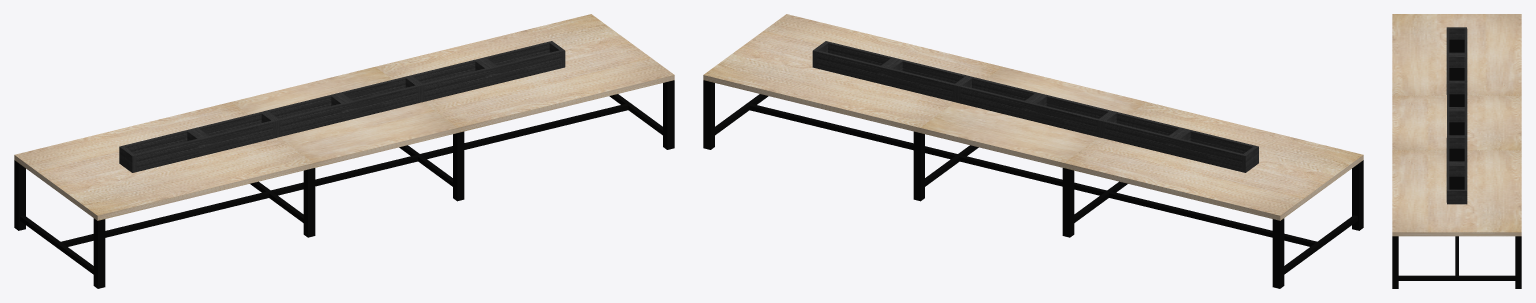
File: Office-Table.glb
3 views of the same model, side by side, from view 1: azimuth 30°, elevation 25°; view 2: azimuth 150°, elevation 25°; view 3: azimuth 270°, elevation 25° (orthographic). The views are drawn at different scales.
Visible parts, largest first — view 1: table (×2), table 1, Box 8 (×3), Box 11 (×3), Box 10 (×2), Box 7 (×2), Box 5 (×2), Box 15, Box 4 (×2), Box 1, Box 3, Box 6; view 2: table (×2), table 1, Box 11 (×3), Box 8 (×3), Box 10 (×2), Box 1 (×2), Box 5 (×2), Box 15, Box 4 (×2), Box 7, Box 6, Box 3; view 3: table (×2), table 1, Box (×3), Box 14 (×3), Box 5, Box 11 (×3), Box 8 (×3), Box 13 (×2), Box 12 (×2), Box 1, Box 7, Box 10.
Boxes of the visible parts, bbox=[...] form: table (×2): bbox=[14, 14, 674, 220]; table 1: bbox=[231, 67, 458, 167]; Box 8 (×3): bbox=[123, 50, 561, 153]; Box 11 (×3): bbox=[135, 42, 549, 171]; Box 10 (×2): bbox=[59, 103, 629, 246]; Box 7 (×2): bbox=[14, 80, 674, 230]; Box 5 (×2): bbox=[20, 94, 662, 274]; Box 15: bbox=[267, 154, 423, 195]; Box 4 (×2): bbox=[250, 145, 452, 222]; Box 1: bbox=[93, 218, 105, 288]; Box 3: bbox=[303, 168, 315, 237]; Box 6: bbox=[453, 131, 464, 201]; table (×2): bbox=[703, 14, 1363, 220]; table 1: bbox=[919, 67, 1146, 167]; Box 11 (×3): bbox=[816, 50, 1254, 153]; Box 8 (×3): bbox=[828, 42, 1242, 171]; Box 10 (×2): bbox=[748, 103, 1318, 246]; Box 1 (×2): bbox=[703, 80, 1363, 230]; Box 5 (×2): bbox=[715, 94, 1357, 274]; Box 15: bbox=[958, 155, 1109, 195]; Box 4 (×2): bbox=[925, 145, 1127, 222]; Box 7: bbox=[1272, 218, 1284, 288]; Box 6: bbox=[1062, 168, 1074, 237]; Box 3: bbox=[913, 131, 924, 201]; table (×2): bbox=[1392, 14, 1521, 236]; table 1: bbox=[1392, 95, 1521, 150]; Box (×3): bbox=[1449, 39, 1464, 189]; Box 14 (×3): bbox=[1448, 52, 1465, 176]; Box 5: bbox=[1398, 275, 1515, 280]; Box 11 (×3): bbox=[1446, 28, 1467, 189]; Box 8 (×3): bbox=[1446, 28, 1467, 202]; Box 13 (×2): bbox=[1446, 27, 1467, 204]; Box 12 (×2): bbox=[1447, 82, 1467, 148]; Box 1: bbox=[1515, 236, 1521, 288]; Box 7: bbox=[1392, 236, 1398, 288]; Box 10: bbox=[1455, 236, 1458, 276].
Size of the model in its own units: 3.99 by 0.5952 by 1.
36 materials, 18 textured.
